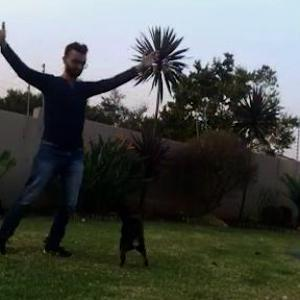takeoff: (0, 24, 146, 240)
